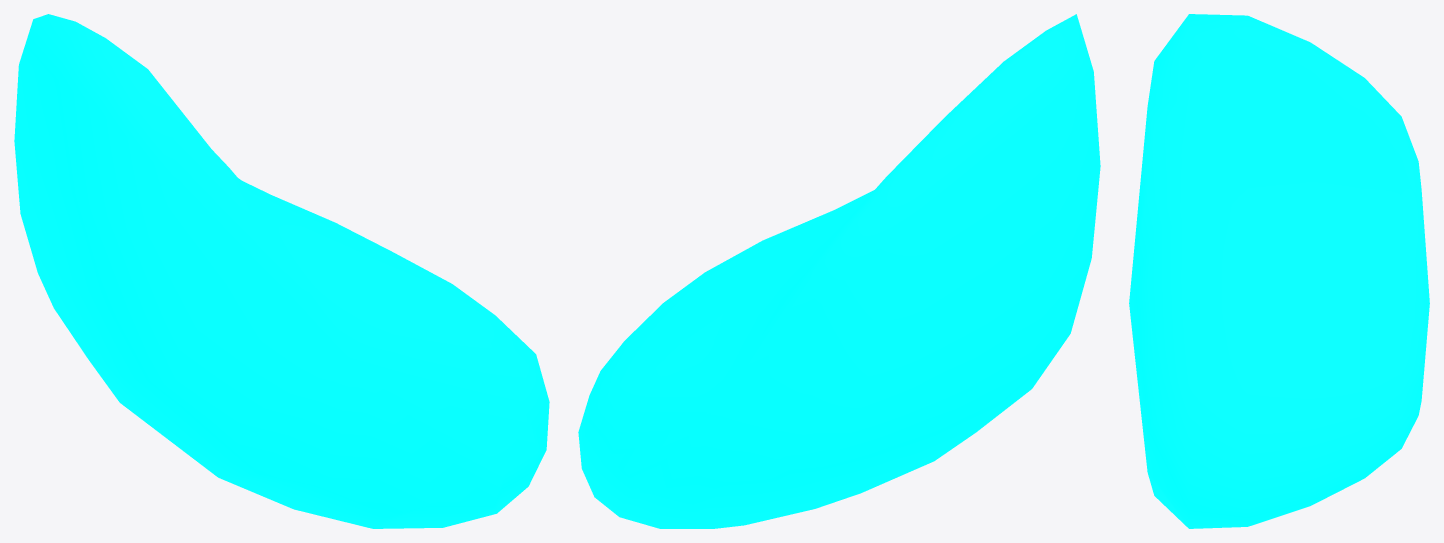
File: Energy1.fbx
3 renders of one model, left to right at view 1: azimuth 30°, elevation 25°; view 2: azimuth 150°, elevation 25°; view 3: azimuth 270°, elevation 25°, orthographic. The views are drawn at different scales.
Parts seen in each view (by area): view 1: Energy1; view 2: Energy1; view 3: Energy1.
Part boxes in pixels (left/top/right/bottom): Energy1: left=14, top=14, right=549, bottom=528; Energy1: left=578, top=14, right=1100, bottom=528; Energy1: left=1129, top=14, right=1429, bottom=528.
Bounding box in the file's own units: 22.08 × 25.63 × 18.09.
